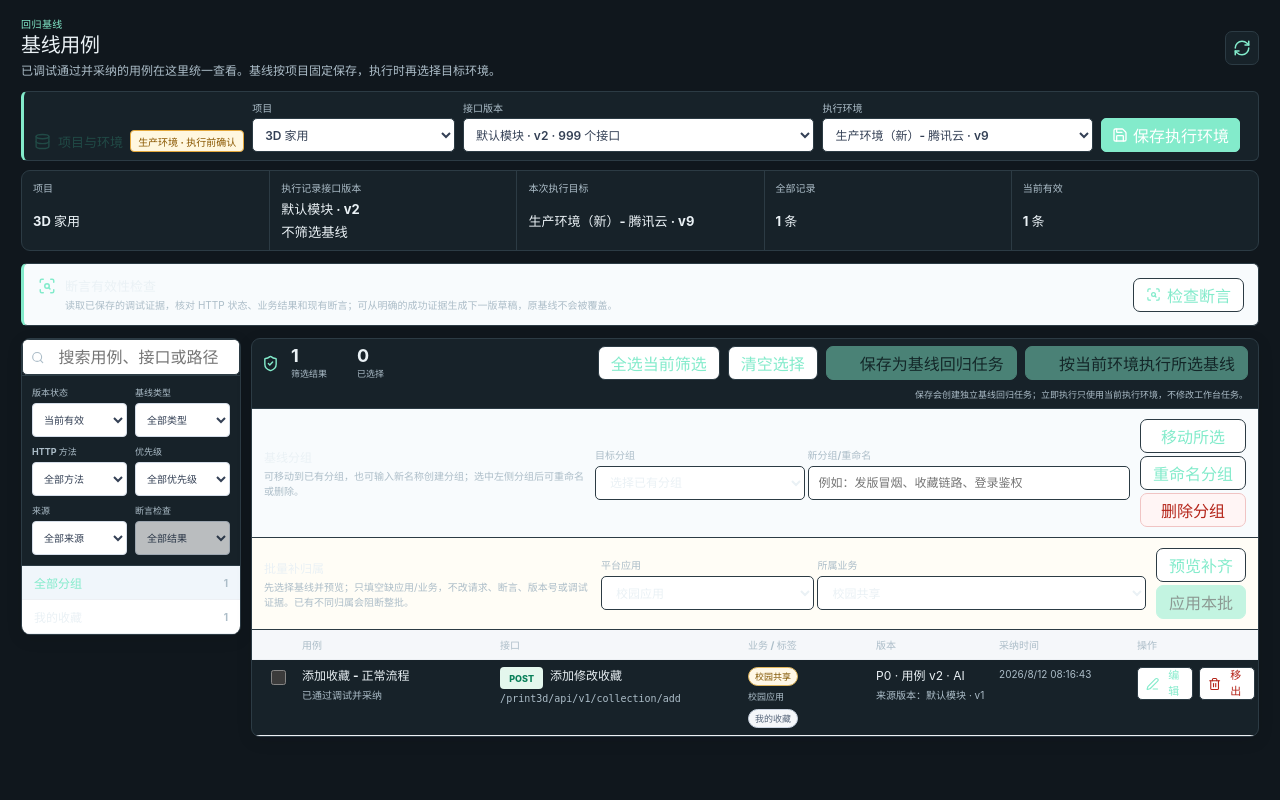
Test: BaselinesView fixed project assets › saves selected baselines as a regression task without saving workspace context
The width and height of the screenshot is (1280, 800).
Click the checkbox at (278, 678), box x1=271 y1=670 x2=286 y2=685
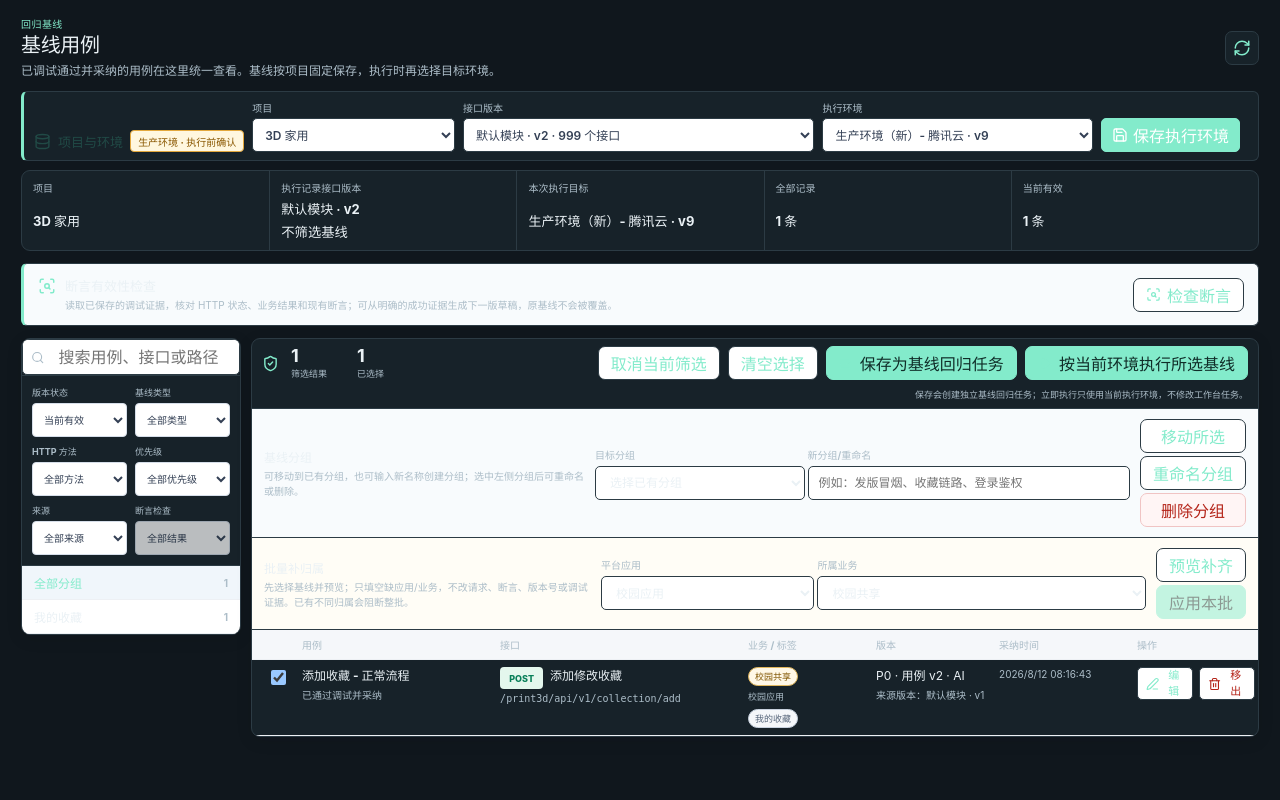
Click the button "保存为基线回归任务" at (921, 363), box x1=826 y1=346 x2=1017 y2=380
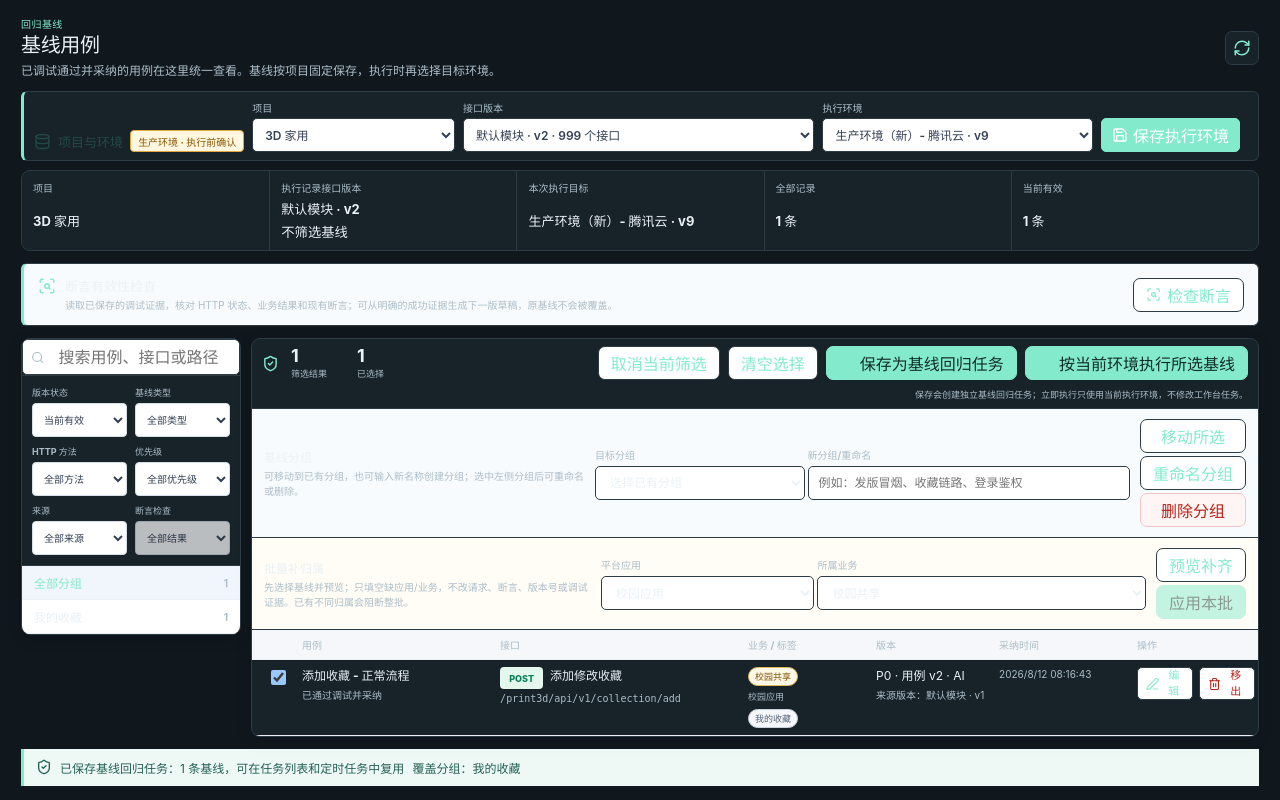
Now the text "已保存基线回归任务：1 条基线" is shown, box x1=60 y1=761 x2=404 y2=776
